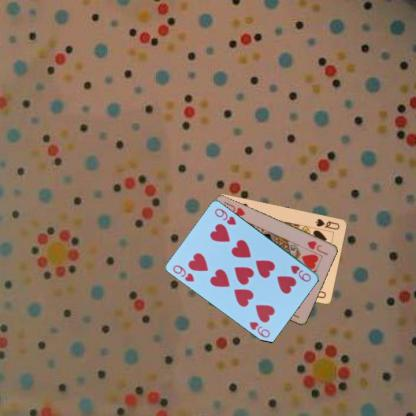9h: (170, 262, 196, 283), (288, 263, 312, 283)
Jh: (305, 238, 329, 257)
Qs: (313, 216, 341, 231)
